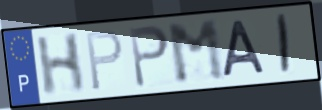A: (222, 18, 269, 80)
H: (34, 30, 87, 99)
I: (277, 12, 292, 78)
M: (164, 18, 228, 87)
P: (127, 23, 171, 91), (84, 29, 125, 94)
